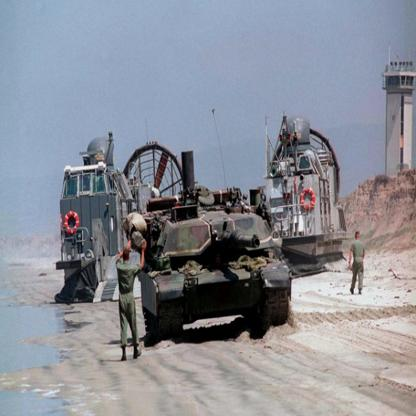Tank: (133, 183, 299, 339)
